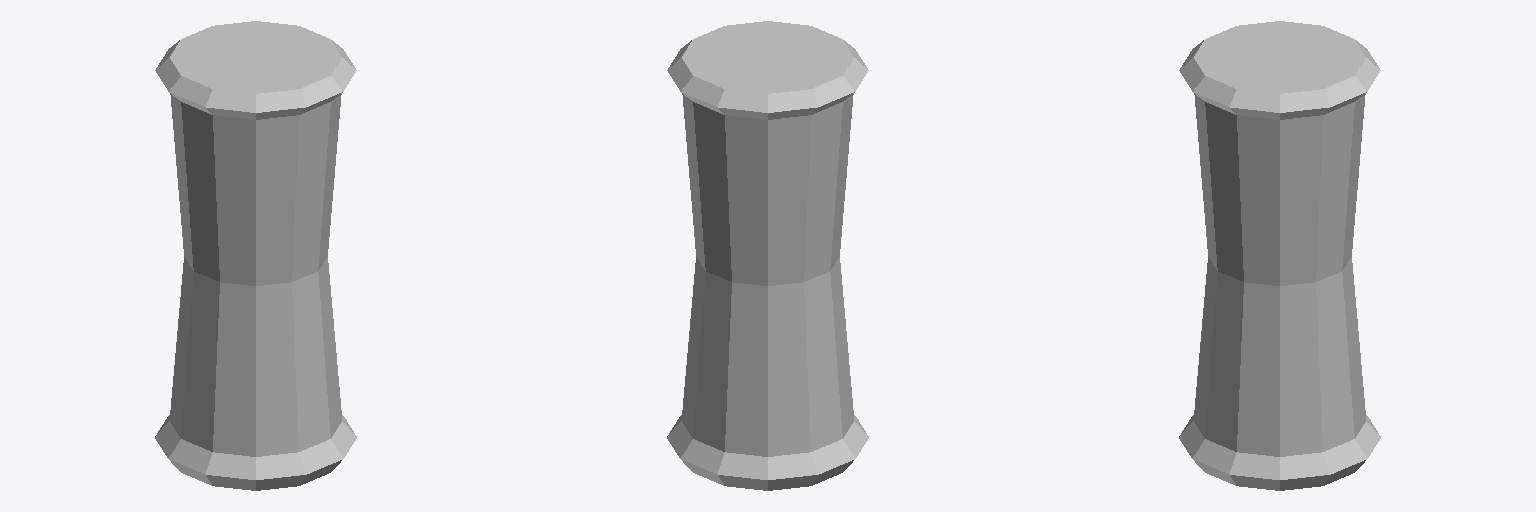
Rendered from charniere echaffaudage petit.obj.
3 renders of one model, left to right at view 1: azimuth 30°, elevation 25°; view 2: azimuth 150°, elevation 25°; view 3: azimuth 270°, elevation 25°, orthographic.
Visible parts, largest first — view 1: Cylindre.021_Cylindre.023; view 2: Cylindre.021_Cylindre.023; view 3: Cylindre.021_Cylindre.023.
Boxes of the visible parts, box(x1,y1,x2,y2) form: Cylindre.021_Cylindre.023: box(155, 21, 356, 490); Cylindre.021_Cylindre.023: box(667, 21, 868, 490); Cylindre.021_Cylindre.023: box(1179, 21, 1380, 490).
Bounding box in the file's own units: 7.24 × 15.64 × 7.24.